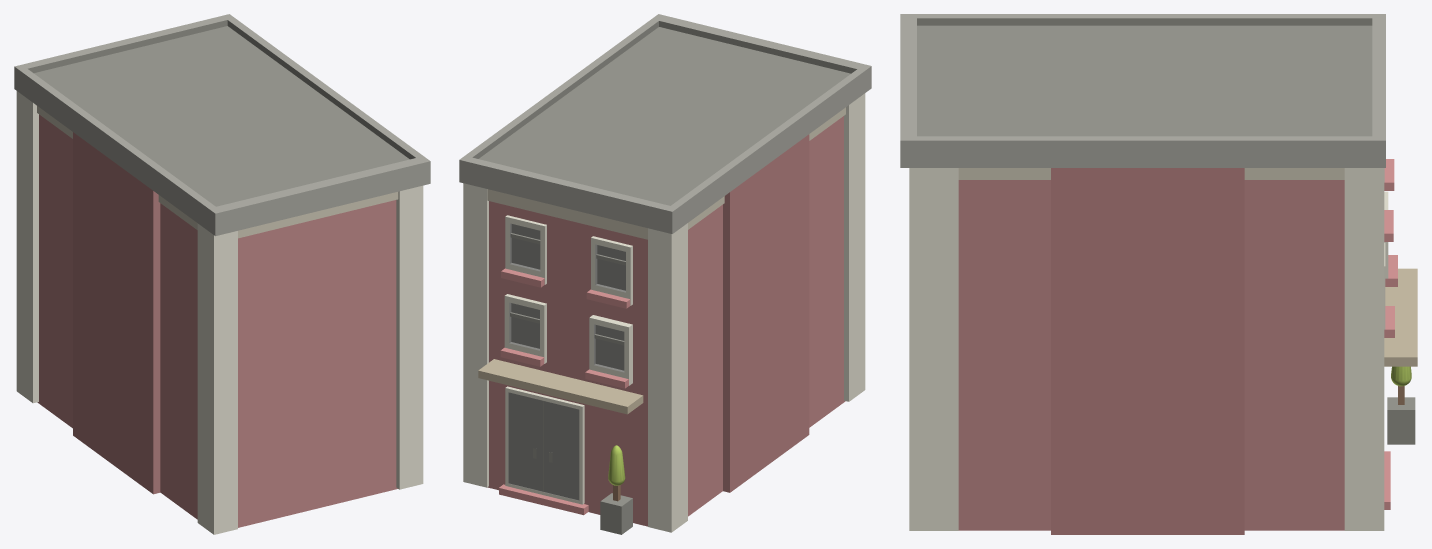
The model's file is house1.fbx.
The picture shows the model from 3 angles, left to right: view 1: azimuth 30°, elevation 25°; view 2: azimuth 150°, elevation 25°; view 3: azimuth 270°, elevation 25°; orthographic projection. The views are drawn at different scales.
Parts seen in each view (by area): view 1: dom1; view 2: dom1; view 3: dom1.
Part boxes in pixels (x1,y1,x2,y2): dom1: (14, 14, 430, 534); dom1: (459, 14, 871, 534); dom1: (900, 14, 1417, 534).
Size of the model in its own units: 710 by 1031 by 1225.
